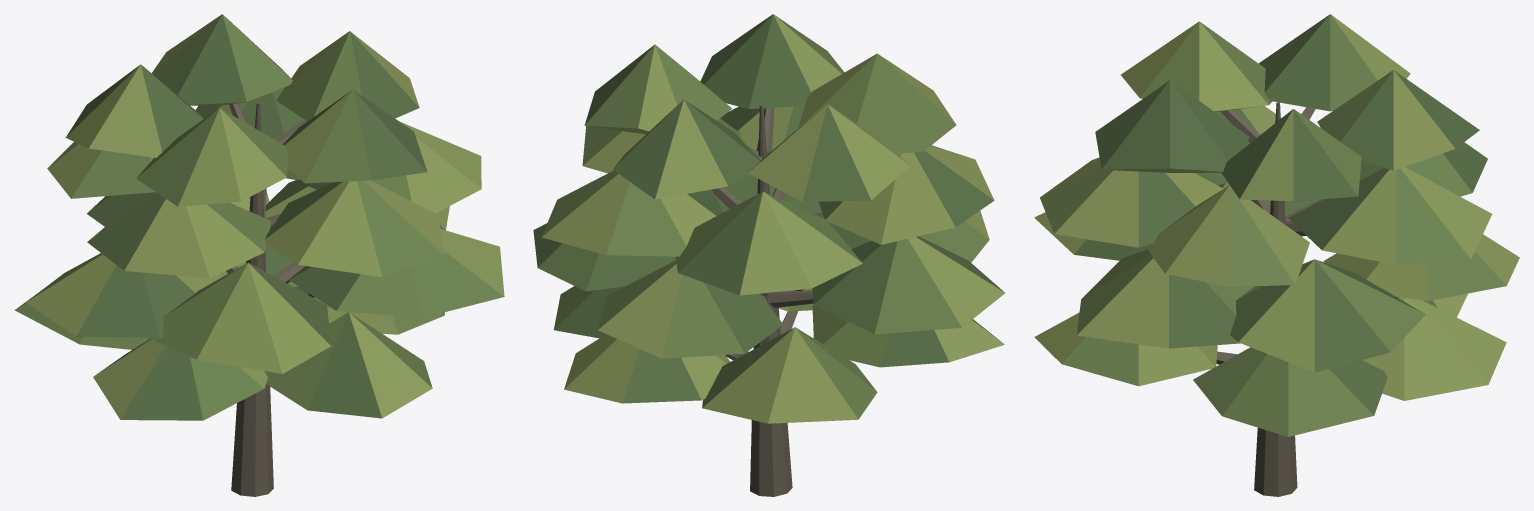
File: TREE6.glb
The picture shows the model from 3 angles, left to right: view 1: azimuth 30°, elevation 25°; view 2: azimuth 150°, elevation 25°; view 3: azimuth 270°, elevation 25°; orthographic projection.
Parts seen in each view (by area): view 1: Fitted street and landscape details; view 2: Fitted street and landscape details; view 3: Fitted street and landscape details.
Part boxes in pixels (<box>): Fitted street and landscape details: <box>14,14,504,496</box>; Fitted street and landscape details: <box>533,14,1004,496</box>; Fitted street and landscape details: <box>1034,14,1519,496</box>.
Size of the model in its own units: 7.37 by 7.01 by 7.15.
